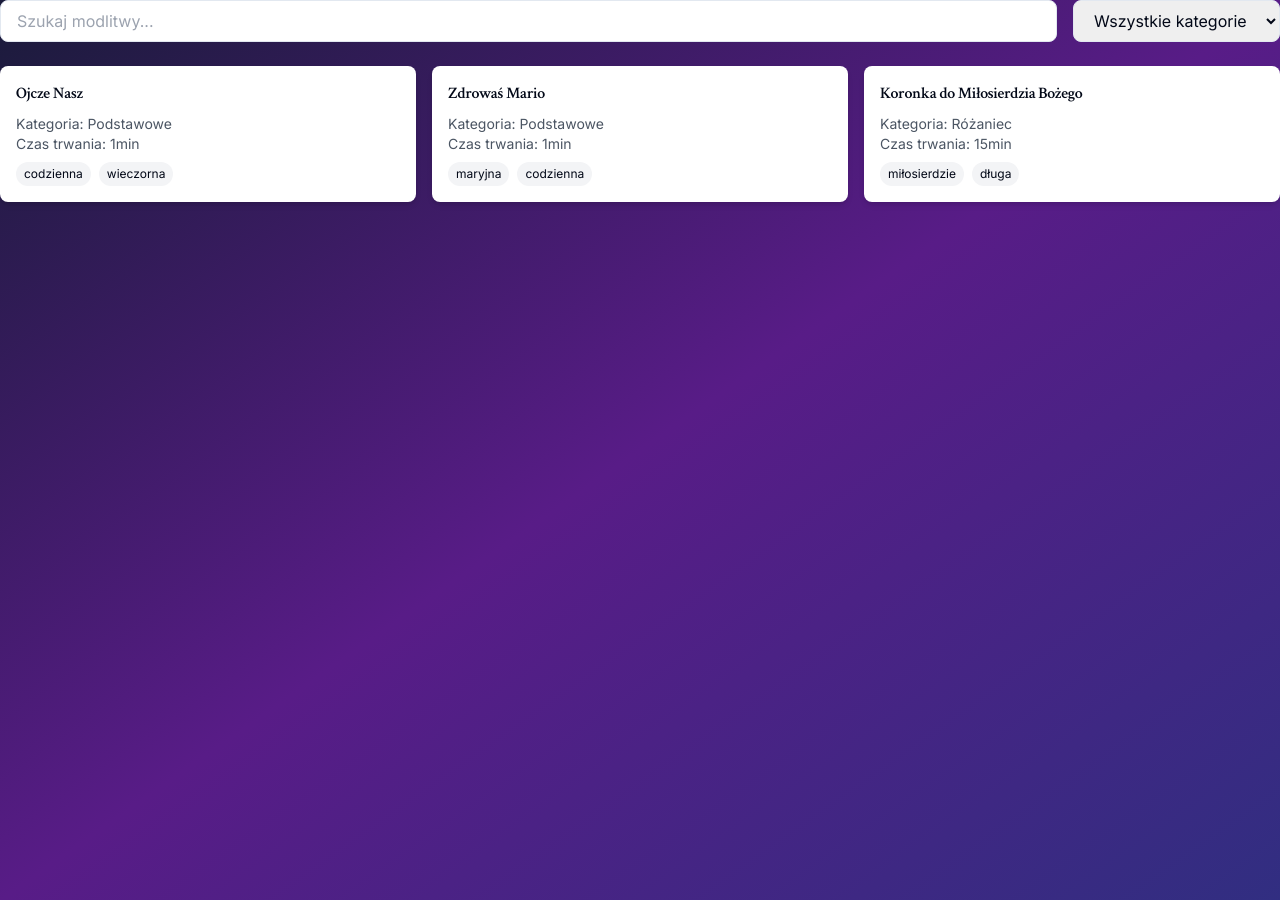
Test case: PrayerMap › shows no results message when no prayers match filters
Type "xyz" into the field with placeholder "Szukaj modlitwy..." at {"x": 528, "y": 21}, box [0,0,1057,42]
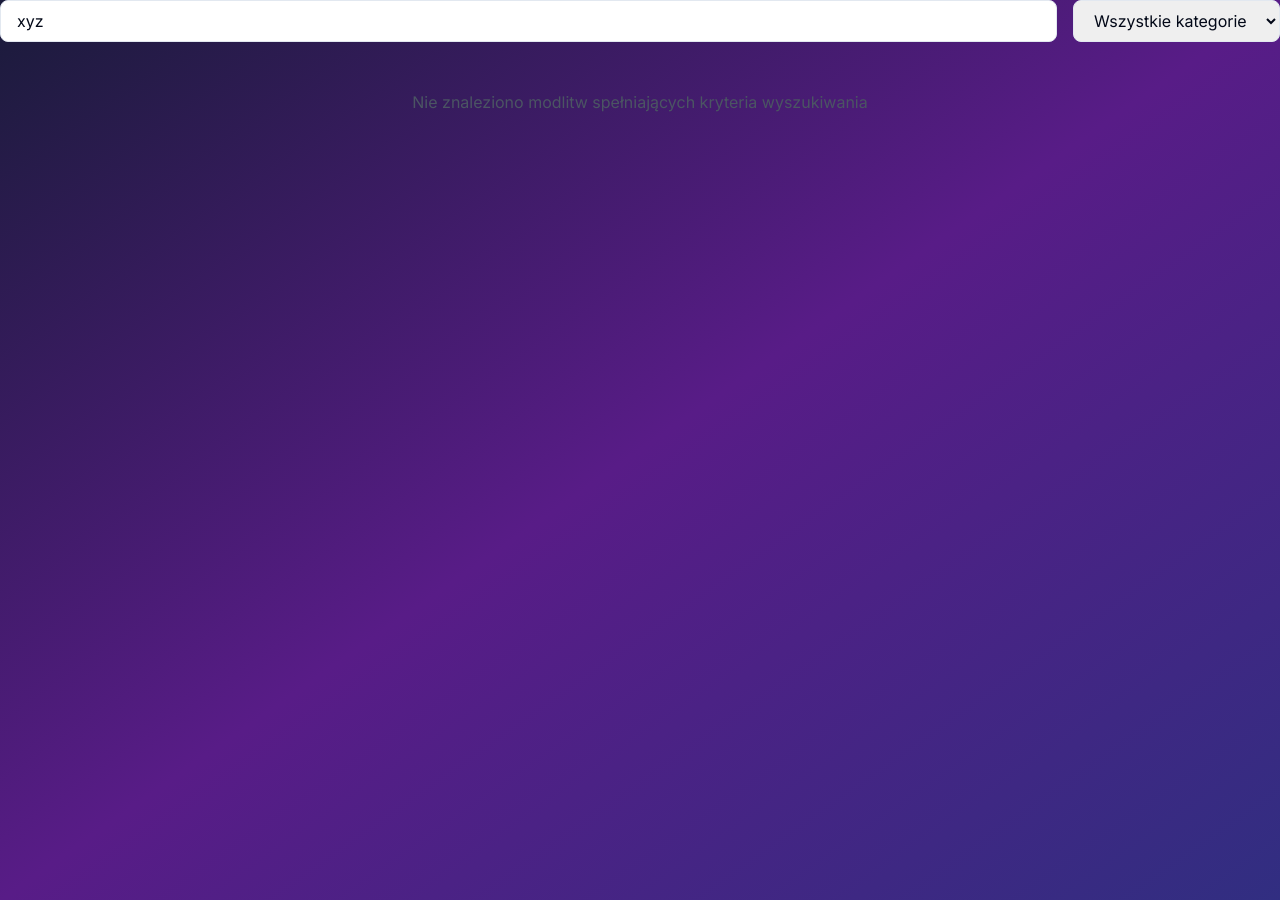
Expected: the text "Nie znaleziono modlitw spełniających kryteria wyszukiwania" is shown, [412,92,868,112]
